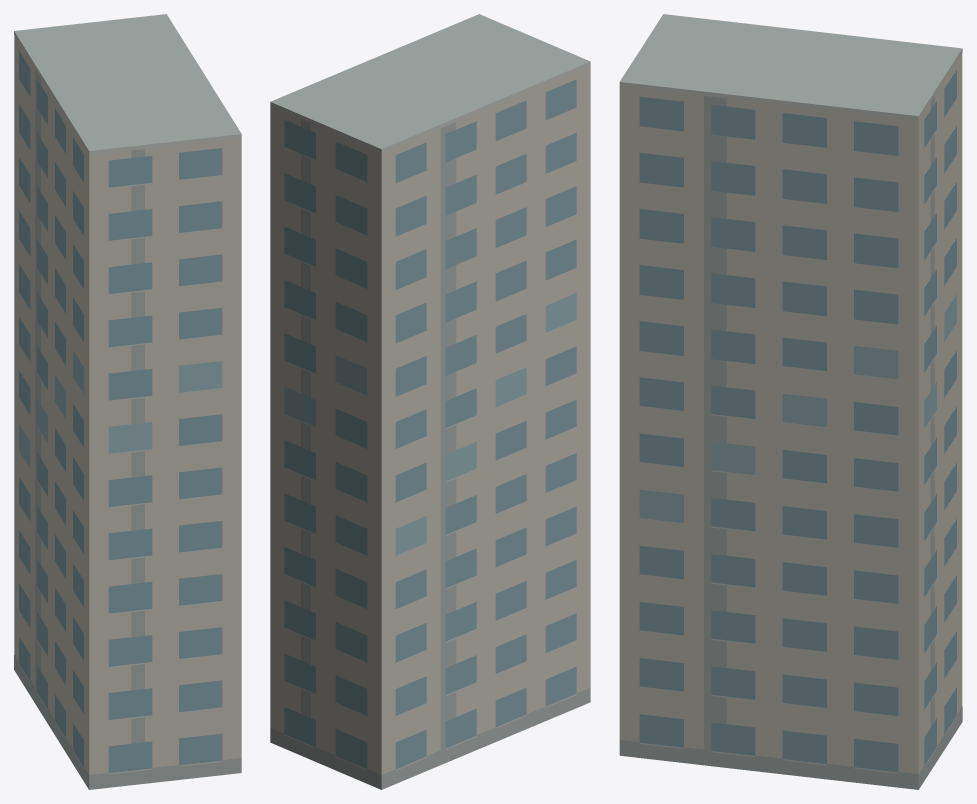
Rendered from residential-6424fe48-5669-4fb2-87ac-5904ce4c4b6f.glb.
3 views of the same model, side by side, from view 1: azimuth 30°, elevation 25°; view 2: azimuth 150°, elevation 25°; view 3: azimuth 270°, elevation 25° (orthographic). The views are drawn at different scales.
Visible parts, largest first — view 1: residential-6424fe48-5669-4fb2-87ac-5904ce4c4b6f.tmp; view 2: residential-6424fe48-5669-4fb2-87ac-5904ce4c4b6f.tmp; view 3: residential-6424fe48-5669-4fb2-87ac-5904ce4c4b6f.tmp.
Boxes of the visible parts, bbox=[...] form: residential-6424fe48-5669-4fb2-87ac-5904ce4c4b6f.tmp: bbox=[14, 14, 241, 789]; residential-6424fe48-5669-4fb2-87ac-5904ce4c4b6f.tmp: bbox=[270, 14, 590, 789]; residential-6424fe48-5669-4fb2-87ac-5904ce4c4b6f.tmp: bbox=[619, 14, 962, 789].
Bounding box in the file's own units: 12.37 × 38 × 17.53.
